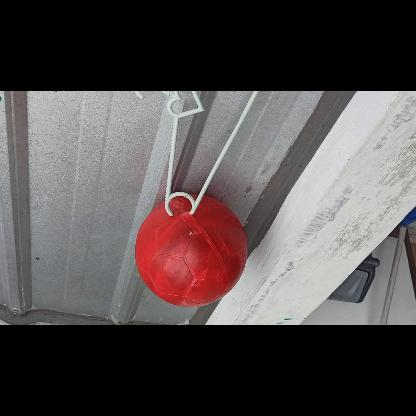red_ball: (133, 193, 247, 307)
